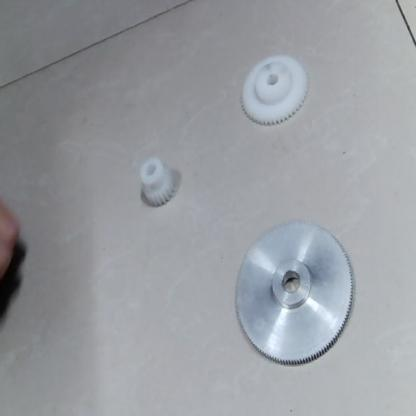FOD: (231, 215, 361, 373), (237, 54, 315, 130), (131, 151, 179, 211)
